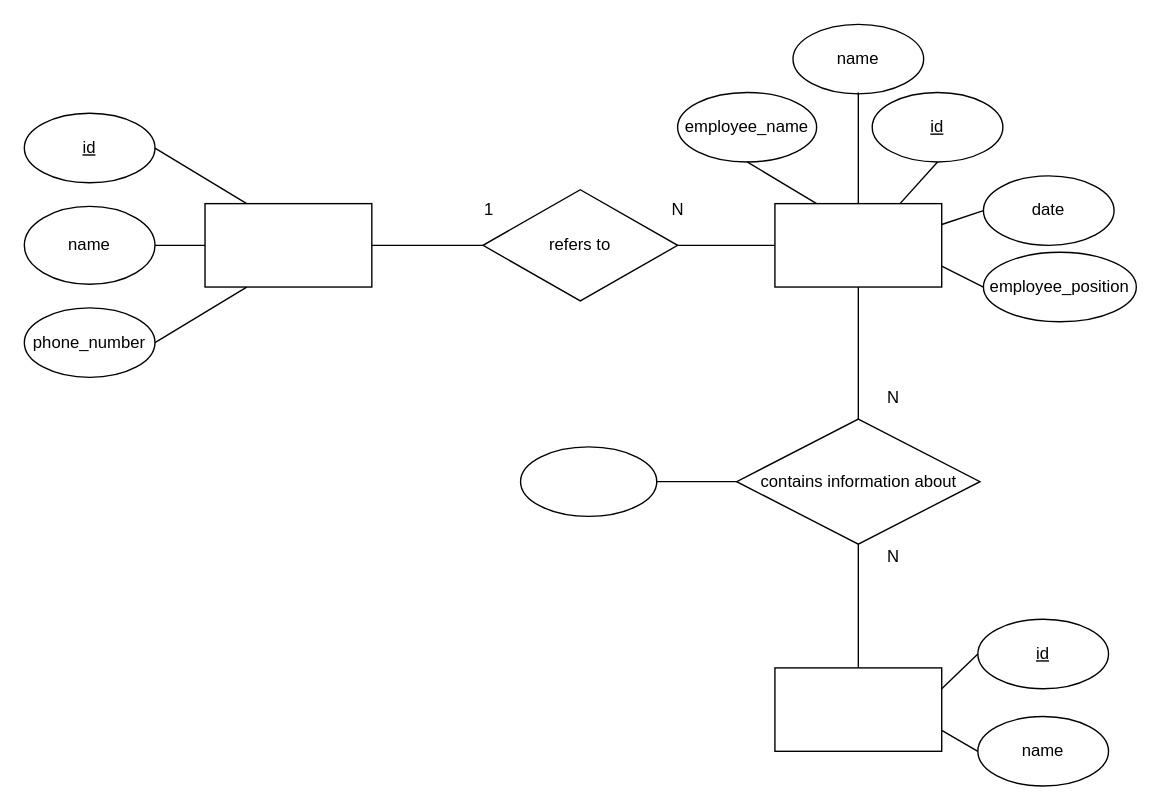
The diagram is 1161 pixels wide and 810 high, and some of its shapes have lost their labels. The centre of each missing label's shape, as x and y in pixels:
"equip_count" goes at [588,480].
"equipment" goes at [858,709].
"storage" goes at [288,244].
"waybill" goes at [858,244].
